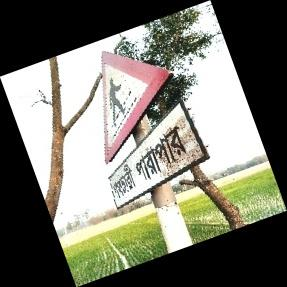Pedestrian-crossing: (101, 52, 209, 212)
